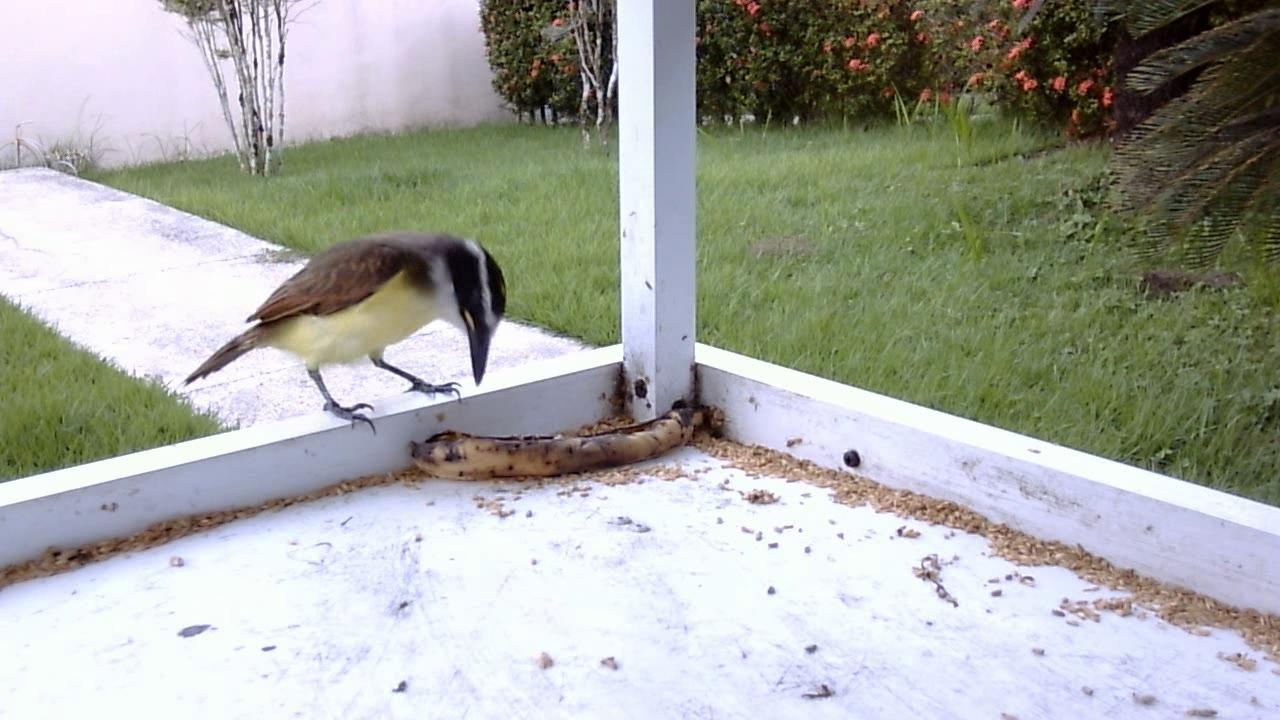bem_te_vi: (175, 220, 512, 444)
